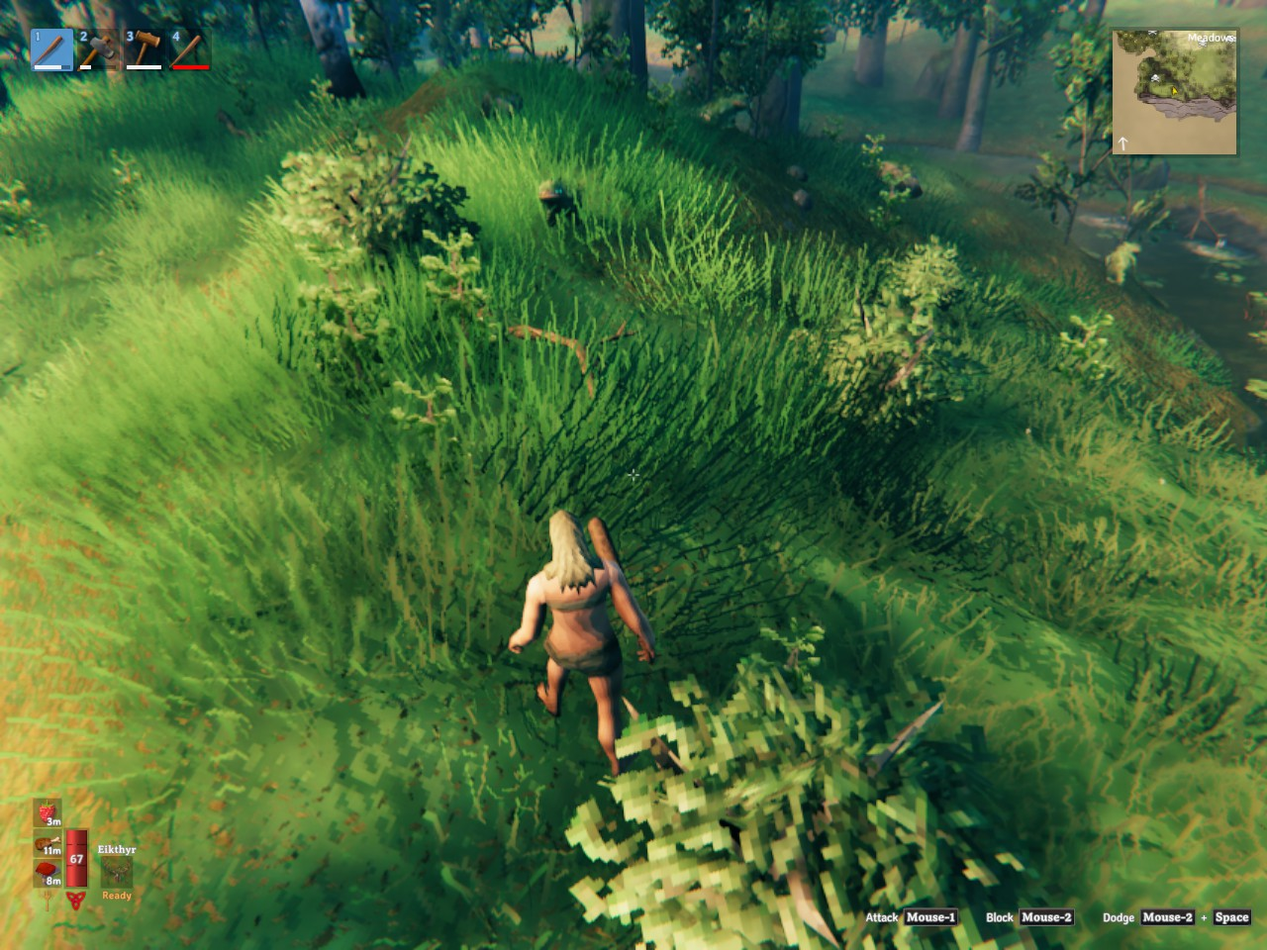Branch: (505, 325, 588, 373), (600, 322, 636, 343), (587, 378, 593, 396)
Food Indicator: (36, 797, 63, 891)
Health Bar: (63, 820, 90, 891)
Hotbar: (25, 21, 398, 78)
Neck: (537, 179, 577, 226), (1105, 241, 1140, 285), (700, 96, 744, 124)
Stone: (793, 188, 811, 209), (788, 166, 807, 180)
